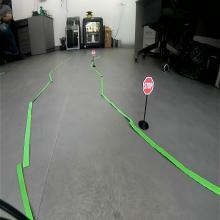stop: (143, 75, 154, 95)
